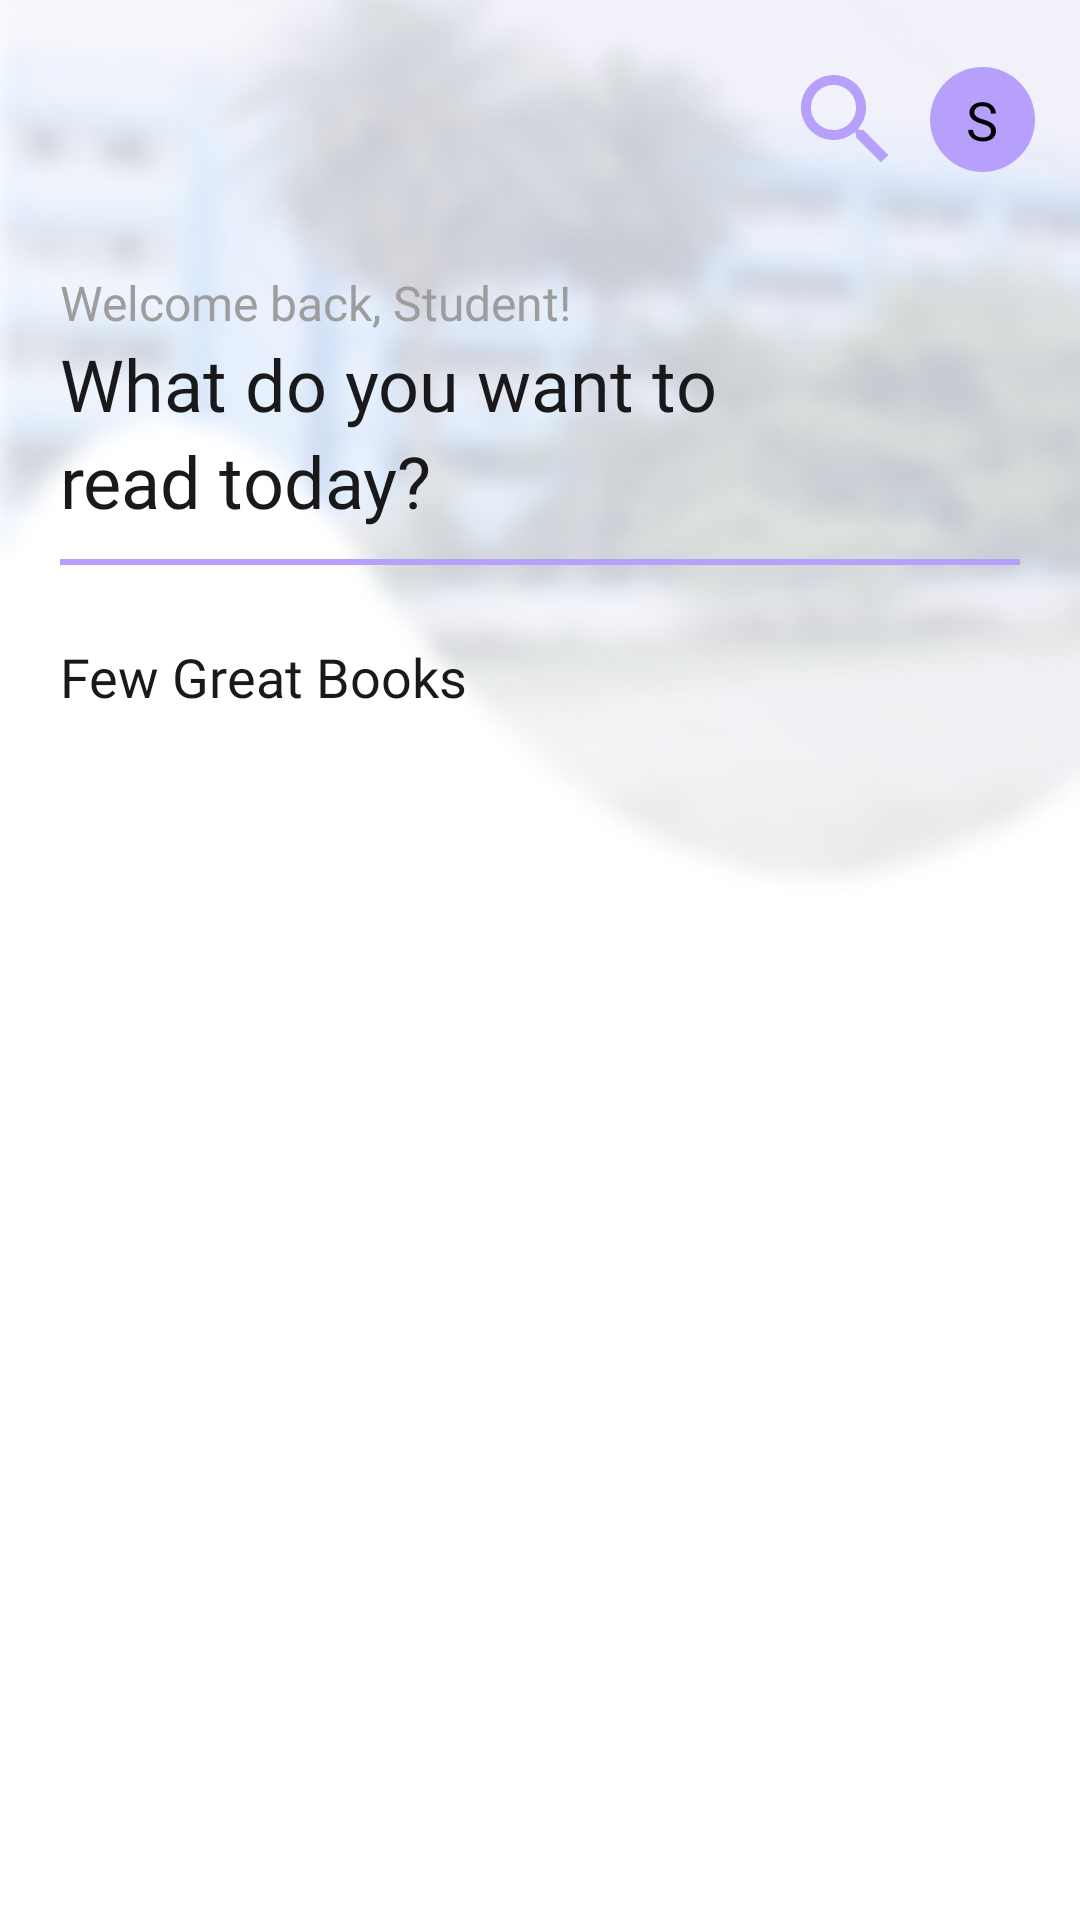

Screen size 1080 × 1920. Icon name, then its center in pixels as (x,y):
search: (844,118)
